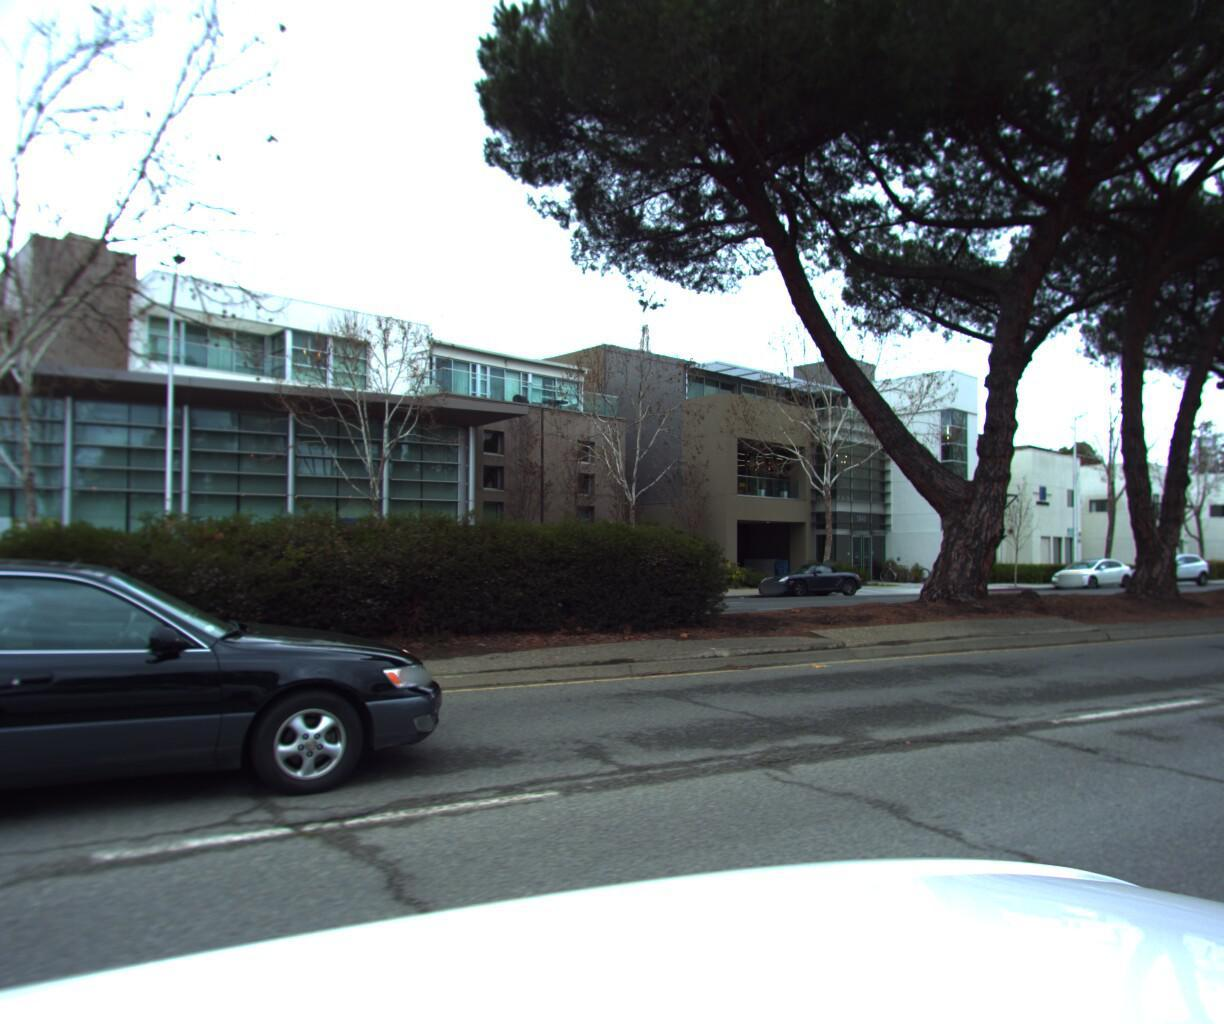car: (0, 559, 472, 925), (751, 559, 868, 600), (1043, 555, 1133, 591), (1120, 549, 1207, 586)
